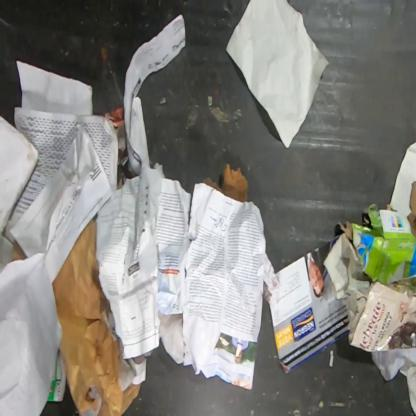cardboard: (264, 235, 351, 375), (337, 203, 416, 285), (203, 164, 249, 202)
